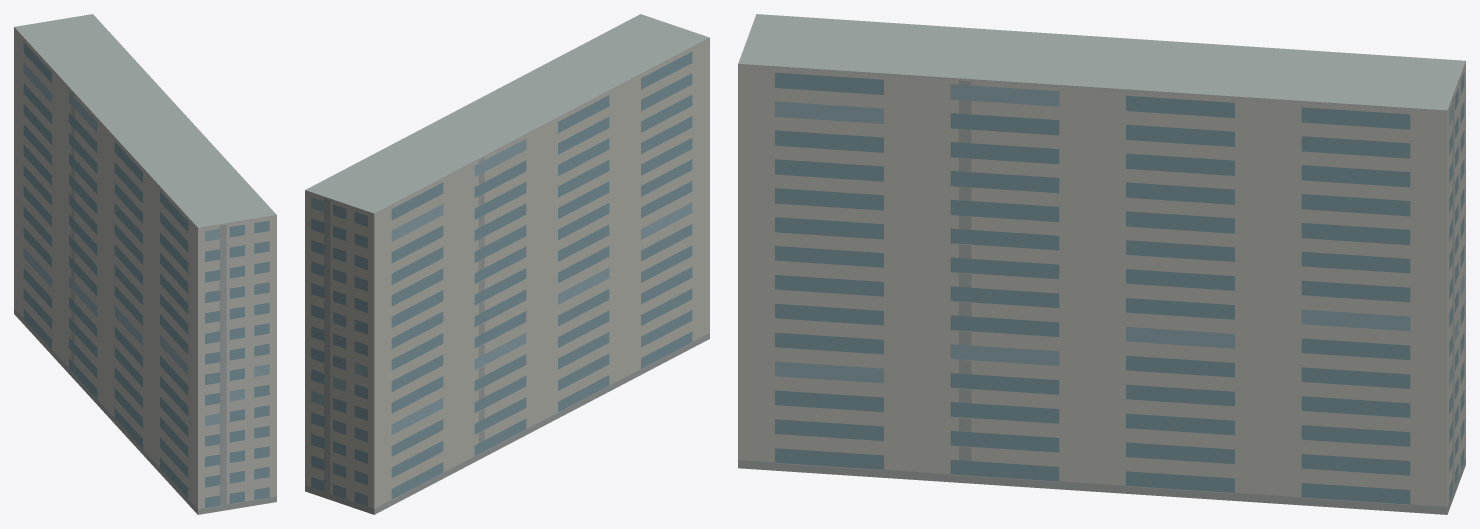
The model's file is residential-aa9197a8-e210-46c2-b6cb-0562a99548b9.glb.
3 views of the same model, side by side, from view 1: azimuth 30°, elevation 25°; view 2: azimuth 150°, elevation 25°; view 3: azimuth 270°, elevation 25° (orthographic). The views are drawn at different scales.
Parts seen in each view (by area): view 1: residential-aa9197a8-e210-46c2-b6cb-0562a99548b9.tmp; view 2: residential-aa9197a8-e210-46c2-b6cb-0562a99548b9.tmp; view 3: residential-aa9197a8-e210-46c2-b6cb-0562a99548b9.tmp.
Boxes of the visible parts, box(x1,y1,x2,y2) form: residential-aa9197a8-e210-46c2-b6cb-0562a99548b9.tmp: box(14, 14, 276, 514); residential-aa9197a8-e210-46c2-b6cb-0562a99548b9.tmp: box(305, 14, 709, 514); residential-aa9197a8-e210-46c2-b6cb-0562a99548b9.tmp: box(738, 14, 1465, 514).
Size of the model in its own units: 21.85 by 42.7 by 69.63.
